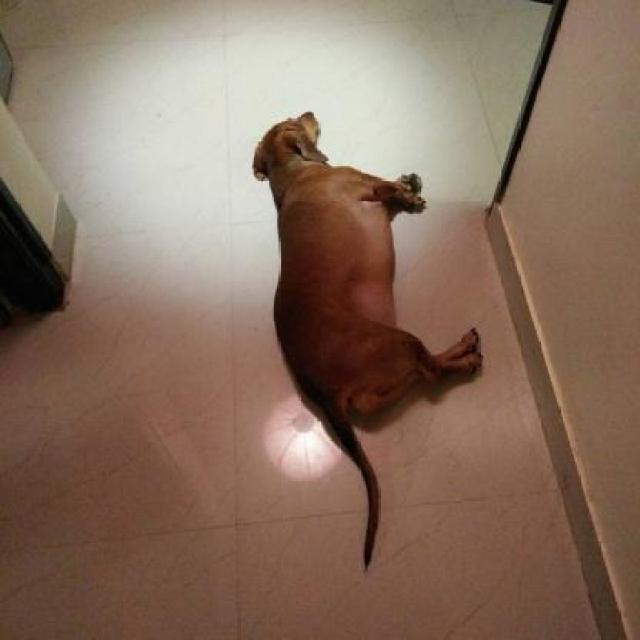Dog: (248, 111, 486, 580)
